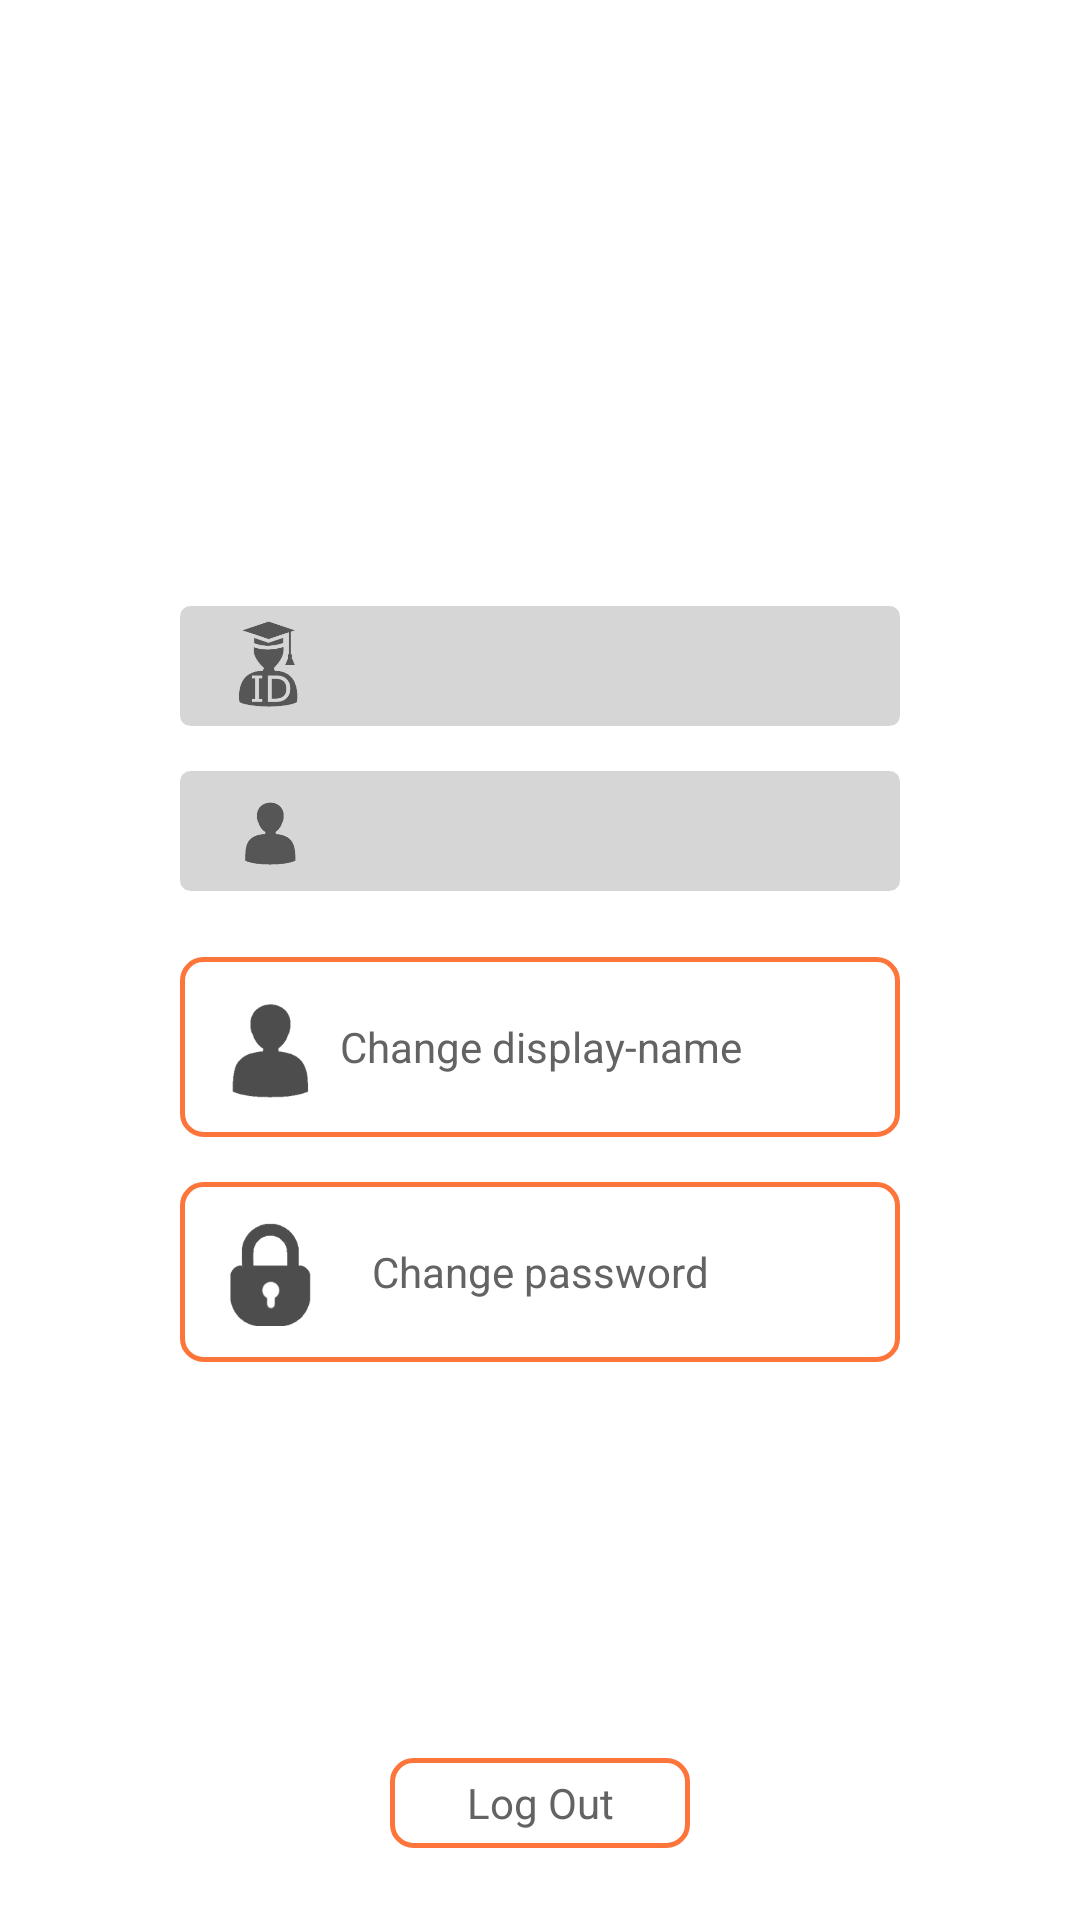

Screen size 1080×1920. Icon name, then its box in pixels as (x1, y1, x2, y2):
user: (180, 771, 360, 891)
